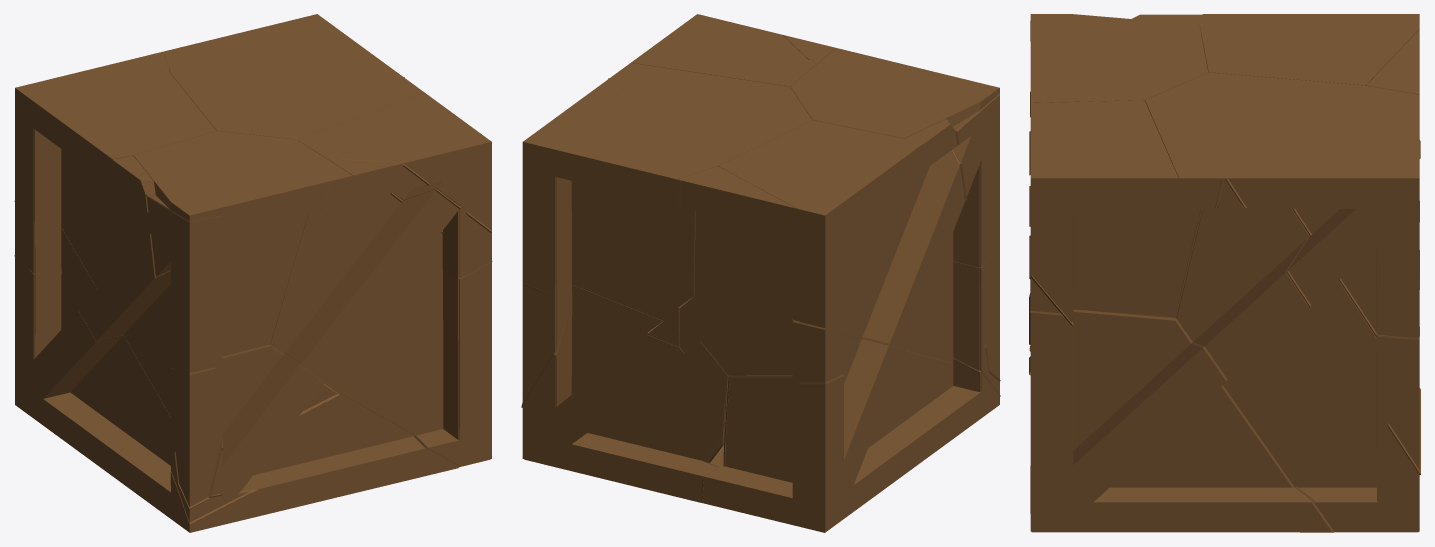
Rendered from crate-parts.fbx.
3 views of the same model, side by side, from view 1: azimuth 30°, elevation 25°; view 2: azimuth 150°, elevation 25°; view 3: azimuth 270°, elevation 25° (orthographic). The views are drawn at different scales.
Parts seen in each view (by area): view 1: crate-side4_cell.002, crate-side1_cell.001, crate-side1_cell.003, crate-base_cell.002, crate-side4_cell.004, crate-base_cell.004, crate-side1_cell.002, crate-side4_cell.003, crate-base_cell.001, crate-side4_cell, crate-base_cell, crate-side2_cell (+7 smaller); view 2: crate-side2_cell.002, crate-side1_cell.003, crate-side1_cell.001, crate-side2_cell.004, crate-base_cell.002, crate-side2_cell, crate-base_cell.004, crate-side2_cell.003, crate-base_cell, crate-base_cell.001, crate-top_cell, crate-side4_cell (+7 smaller); view 3: crate-side3_cell.003, crate-side3_cell, crate-base_cell.002, crate-side3_cell.002, crate-side3_cell.001, crate-base_cell.004, crate-base_cell, crate-base_cell.001, crate-side2_cell.002, crate-side2_cell.004, crate-side4_cell.002, crate-side4_cell.001 (+3 smaller).
Boxes of the visible parts, x1=… form: crate-side4_cell.002: x1=270, y1=164, x2=491, y2=466; crate-side1_cell.001: x1=14, y1=201, x2=221, y2=532; crate-side1_cell.003: x1=15, y1=88, x2=223, y2=497; crate-base_cell.002: x1=163, y1=14, x2=424, y2=139; crate-side4_cell.004: x1=170, y1=183, x2=328, y2=373; crate-base_cell.004: x1=133, y1=131, x2=354, y2=239; crate-side1_cell.002: x1=145, y1=194, x2=221, y2=509; crate-side4_cell.003: x1=170, y1=392, x2=458, y2=532; crate-base_cell.001: x1=297, y1=93, x2=491, y2=199; crate-side4_cell: x1=171, y1=344, x2=339, y2=524; crate-base_cell: x1=15, y1=73, x2=216, y2=183; crate-side2_cell: x1=15, y1=58, x2=168, y2=274; crate-side2_cell.002: x1=522, y1=284, x2=728, y2=502; crate-side1_cell.003: x1=792, y1=119, x2=987, y2=371; crate-side1_cell.001: x1=792, y1=320, x2=999, y2=532; crate-side2_cell.004: x1=522, y1=142, x2=695, y2=346; crate-base_cell.002: x1=523, y1=63, x2=811, y2=200; crate-side2_cell: x1=679, y1=181, x2=843, y2=375; crate-base_cell.004: x1=790, y1=48, x2=999, y2=138; crate-side2_cell.003: x1=701, y1=374, x2=843, y2=532; crate-base_cell: x1=718, y1=120, x2=923, y2=238; crate-base_cell.001: x1=631, y1=14, x2=835, y2=86; crate-top_cell: x1=660, y1=392, x2=985, y2=531; crate-side4_cell: x1=953, y1=246, x2=1000, y2=396; crate-side3_cell.003: x1=1030, y1=305, x2=1334, y2=532; crate-side3_cell: x1=1176, y1=191, x2=1419, y2=532; crate-base_cell.002: x1=1145, y1=72, x2=1419, y2=205; crate-side3_cell.002: x1=1030, y1=170, x2=1224, y2=318; crate-side3_cell.001: x1=1225, y1=178, x2=1420, y2=474; crate-base_cell.004: x1=1030, y1=14, x2=1208, y2=102; crate-base_cell: x1=1199, y1=14, x2=1419, y2=85; crate-base_cell.001: x1=1030, y1=100, x2=1178, y2=205; crate-side2_cell.002: x1=1376, y1=334, x2=1419, y2=532; crate-side2_cell.004: x1=1376, y1=179, x2=1419, y2=337; crate-side4_cell.002: x1=1029, y1=91, x2=1073, y2=532; crate-side4_cell.001: x1=1030, y1=107, x2=1073, y2=326.
Size of the model in its own units: 2.01 by 2.02 by 2.01.
